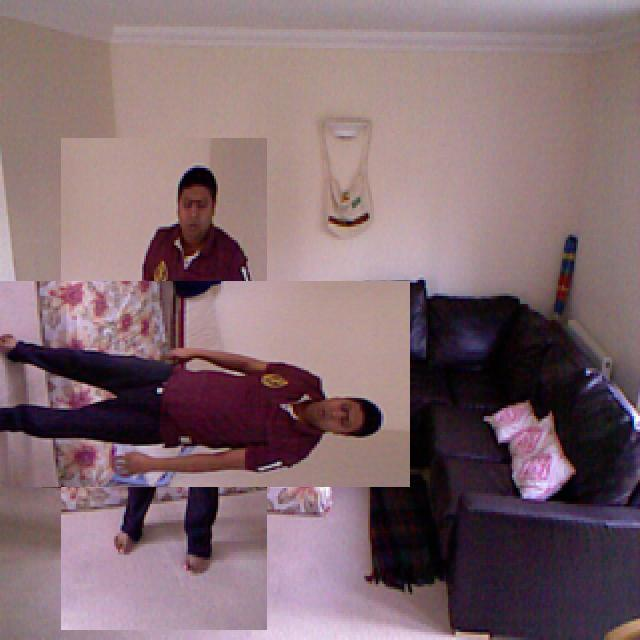NotFall: (0, 312, 400, 478)
